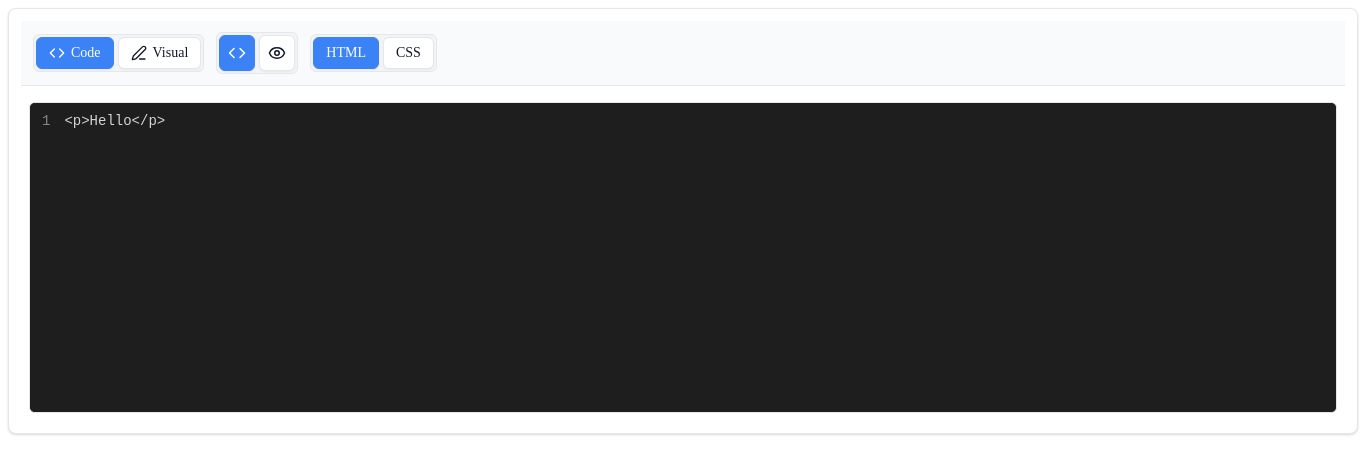
Test: ContentEditor composition › switches to the WYSIWYG surface and reflects the shared HTML value
The image size is (1366, 453).
Click the button with aria-label "visual editor".
click(159, 53)  # box left=118, top=37, right=201, bottom=69
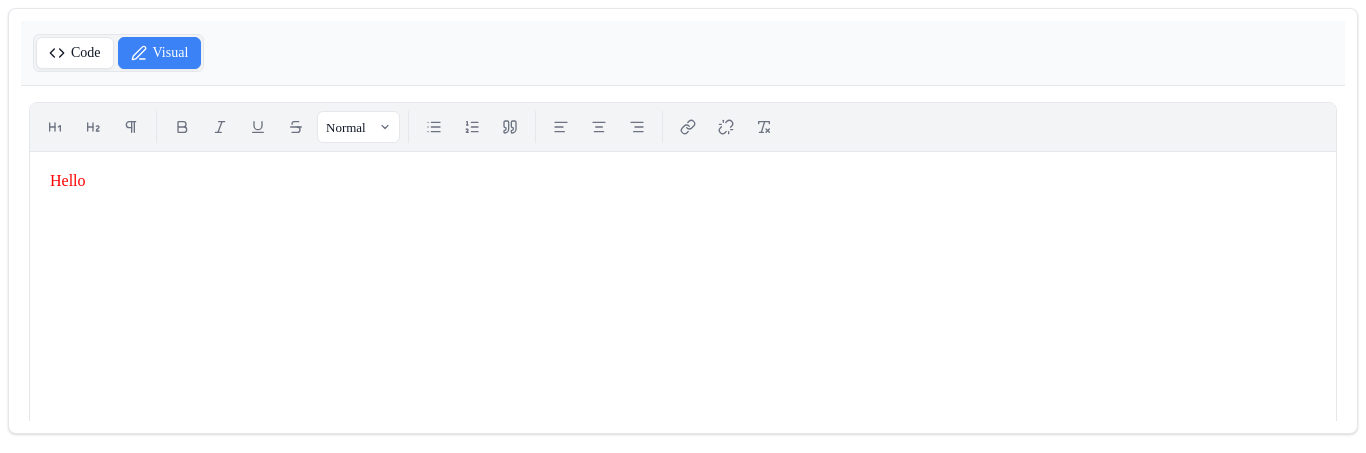
Result: the field named "rich text editor" reads "Hello" at left=50, top=172, right=86, bottom=189
